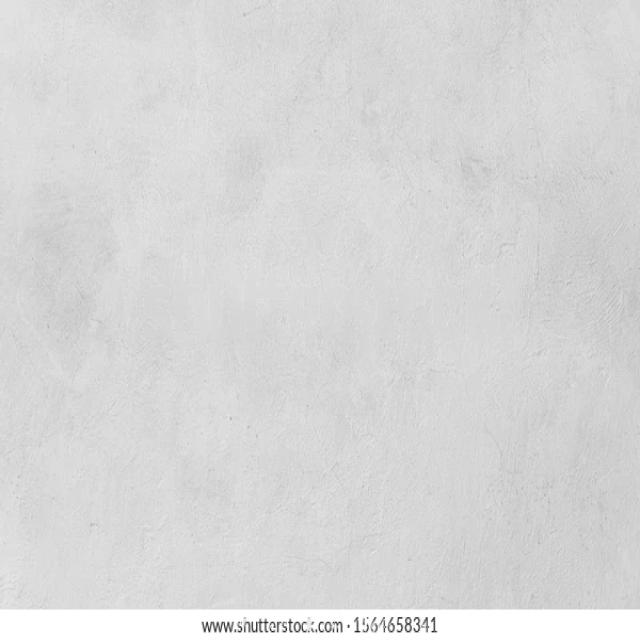rough and patchy surface: (5, 8, 634, 600)
